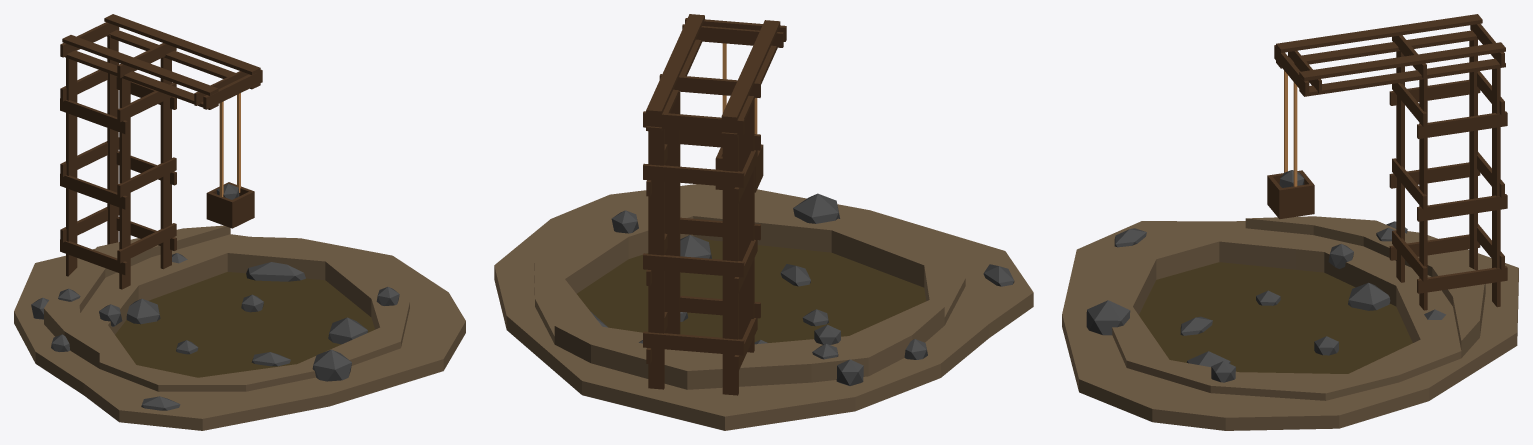
File: QuarryFinal.fbx
The picture shows the model from 3 angles, left to right: view 1: azimuth 30°, elevation 25°; view 2: azimuth 150°, elevation 25°; view 3: azimuth 270°, elevation 25°; orthographic projection. The views are drawn at different scales.
Visible parts, largest first — view 1: Plane.075; view 2: Plane.075; view 3: Plane.075.
Part boxes in pixels (bbox=[...]): Plane.075: bbox=[14, 14, 465, 430]; Plane.075: bbox=[494, 14, 1033, 430]; Plane.075: bbox=[1062, 14, 1518, 430].
Bounding box in the file's own units: 44.73 × 31.44 × 43.54.
